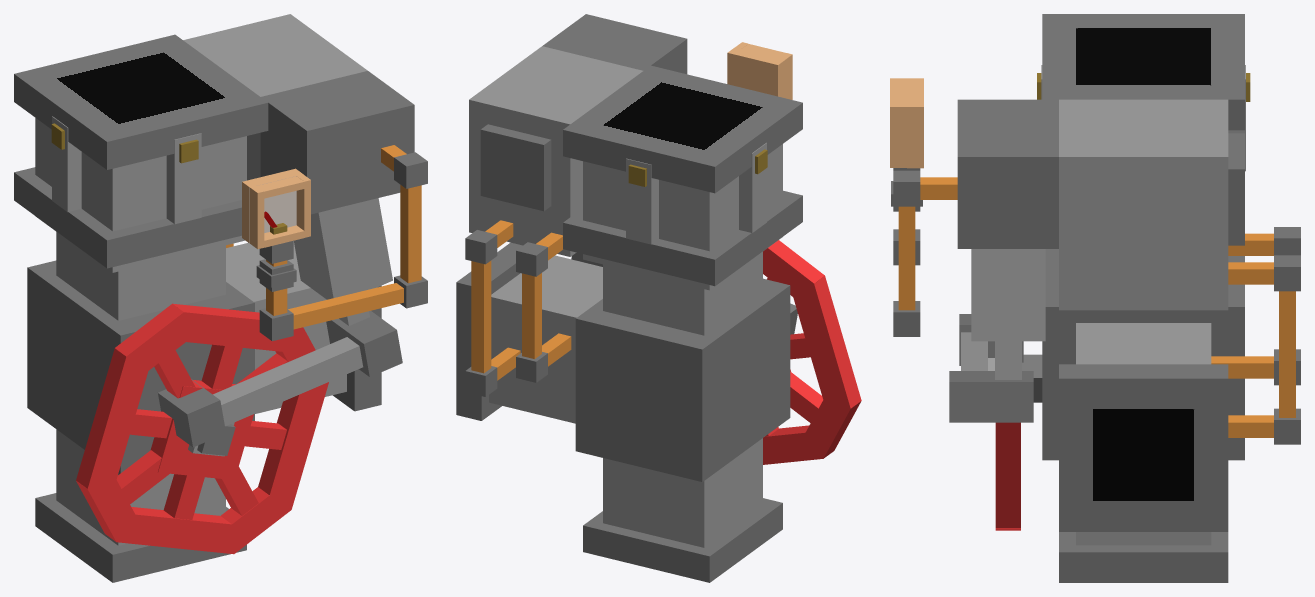
File: offshore_pump.obj
3 renders of one model, left to right at view 1: azimuth 30°, elevation 25°; view 2: azimuth 150°, elevation 25°; view 3: azimuth 270°, elevation 25°, orthographic. The views are drawn at different scales.
Bounding box in the file's own units: 0.7514 × 1 × 0.7594.
